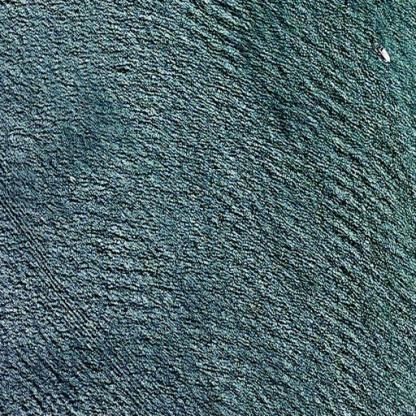ship: (368, 39, 399, 69)
